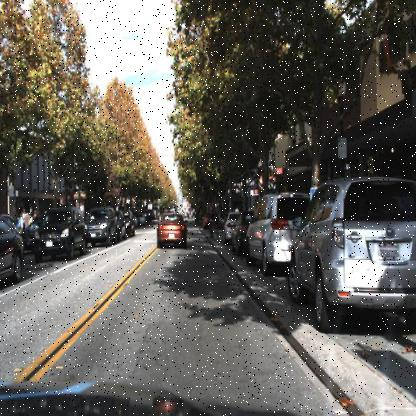car: (286, 172, 415, 342), (242, 189, 315, 277), (31, 203, 87, 263), (0, 212, 25, 287), (84, 207, 118, 245), (156, 210, 189, 248)
